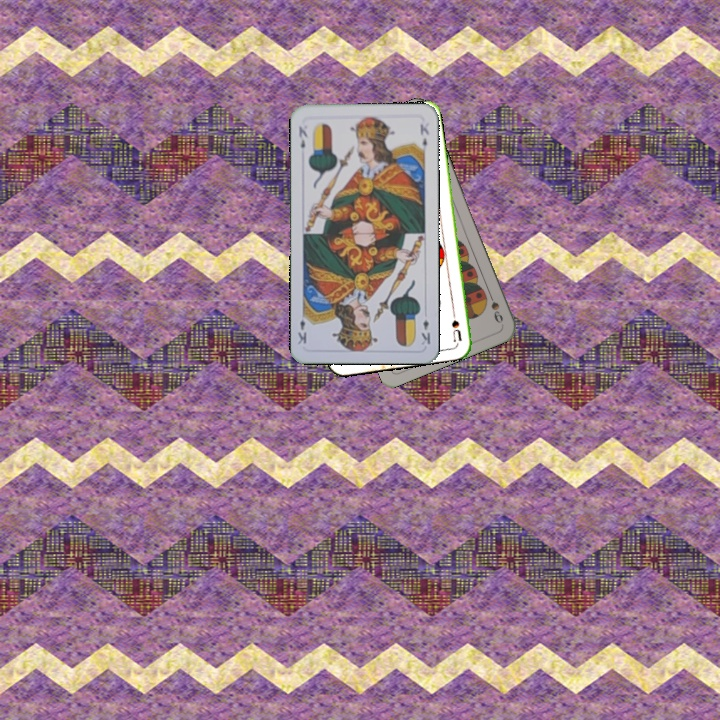EK: (418, 315, 433, 347), (295, 122, 310, 151)
S9: (484, 287, 506, 326)
SU: (448, 302, 464, 343)
